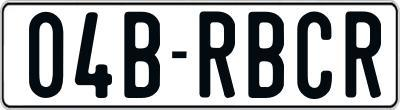0: (29, 11, 64, 97)
4: (75, 11, 114, 97)
B: (124, 11, 165, 103), (248, 12, 290, 99)
C: (295, 10, 336, 102)
R: (199, 8, 235, 96), (345, 8, 380, 98)
